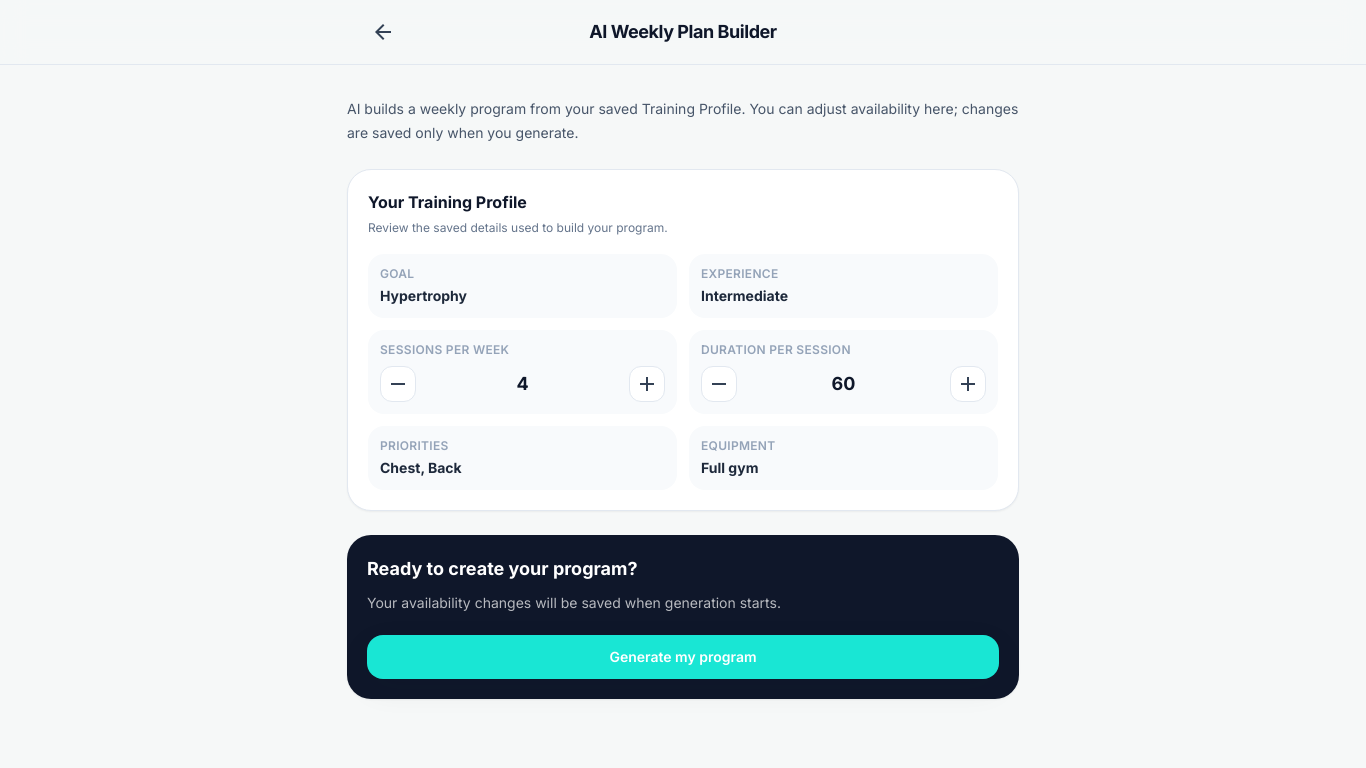
Test: a failed save preserves selections and prevents generation
The width and height of the screenshot is (1366, 768).
Check: the text "Hypertrophy" is shown, box x1=380 y1=287 x2=467 y2=304
Click the button named "Increase sessions per week": (647, 384) x1=629 y1=366 x2=665 y2=402
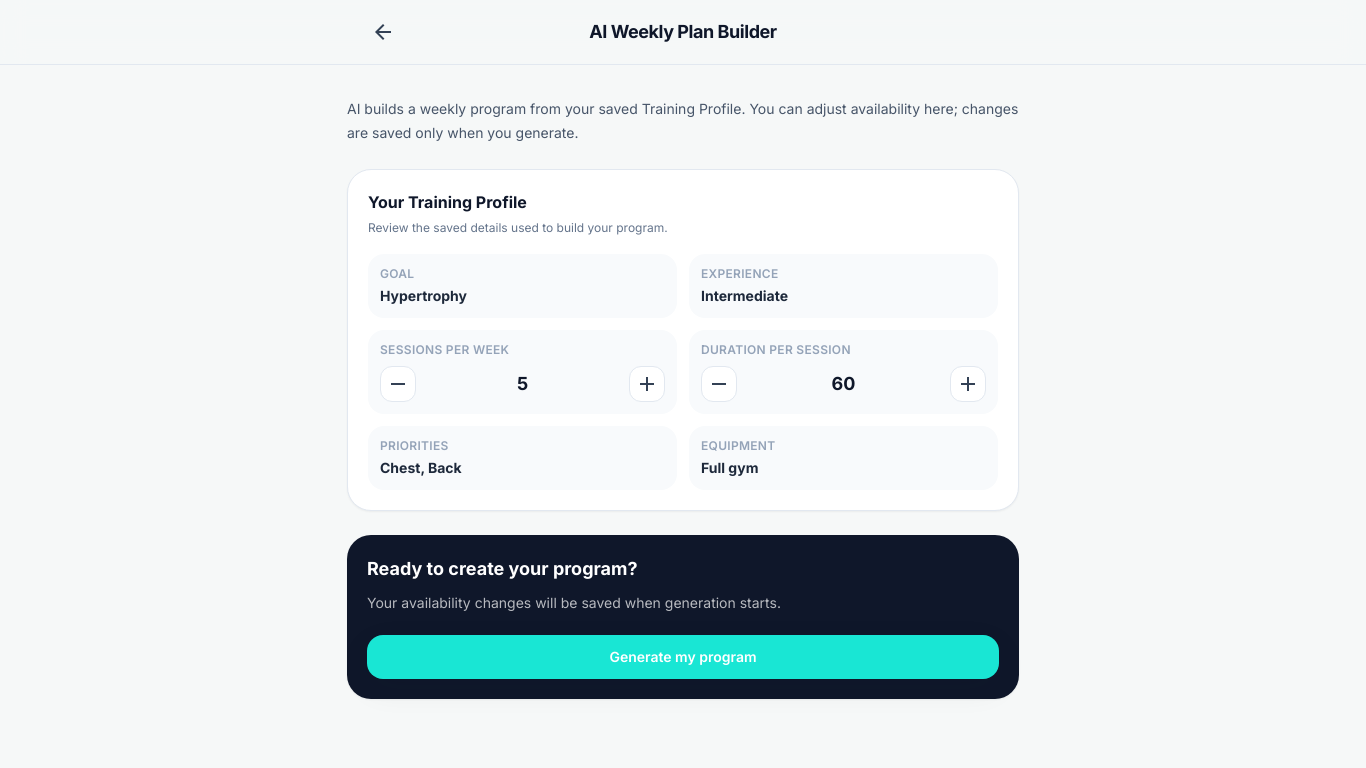
Click the button "Generate my program": (683, 657) x1=367 y1=635 x2=999 y2=679
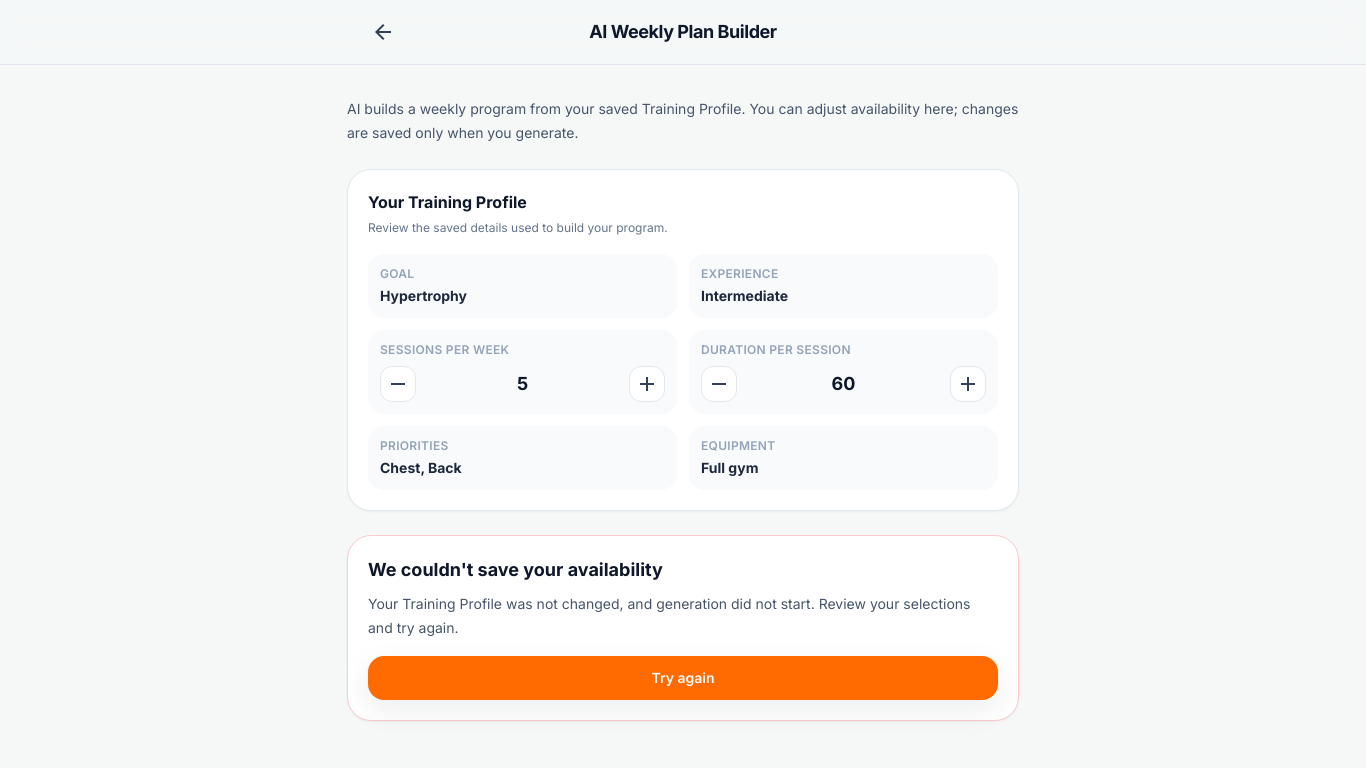
Check: the text "5" is shown, box x1=517 y1=373 x2=528 y2=394
Check: the heading "We couldn't save your availability" is shown, box x1=368 y1=559 x2=663 y2=580
